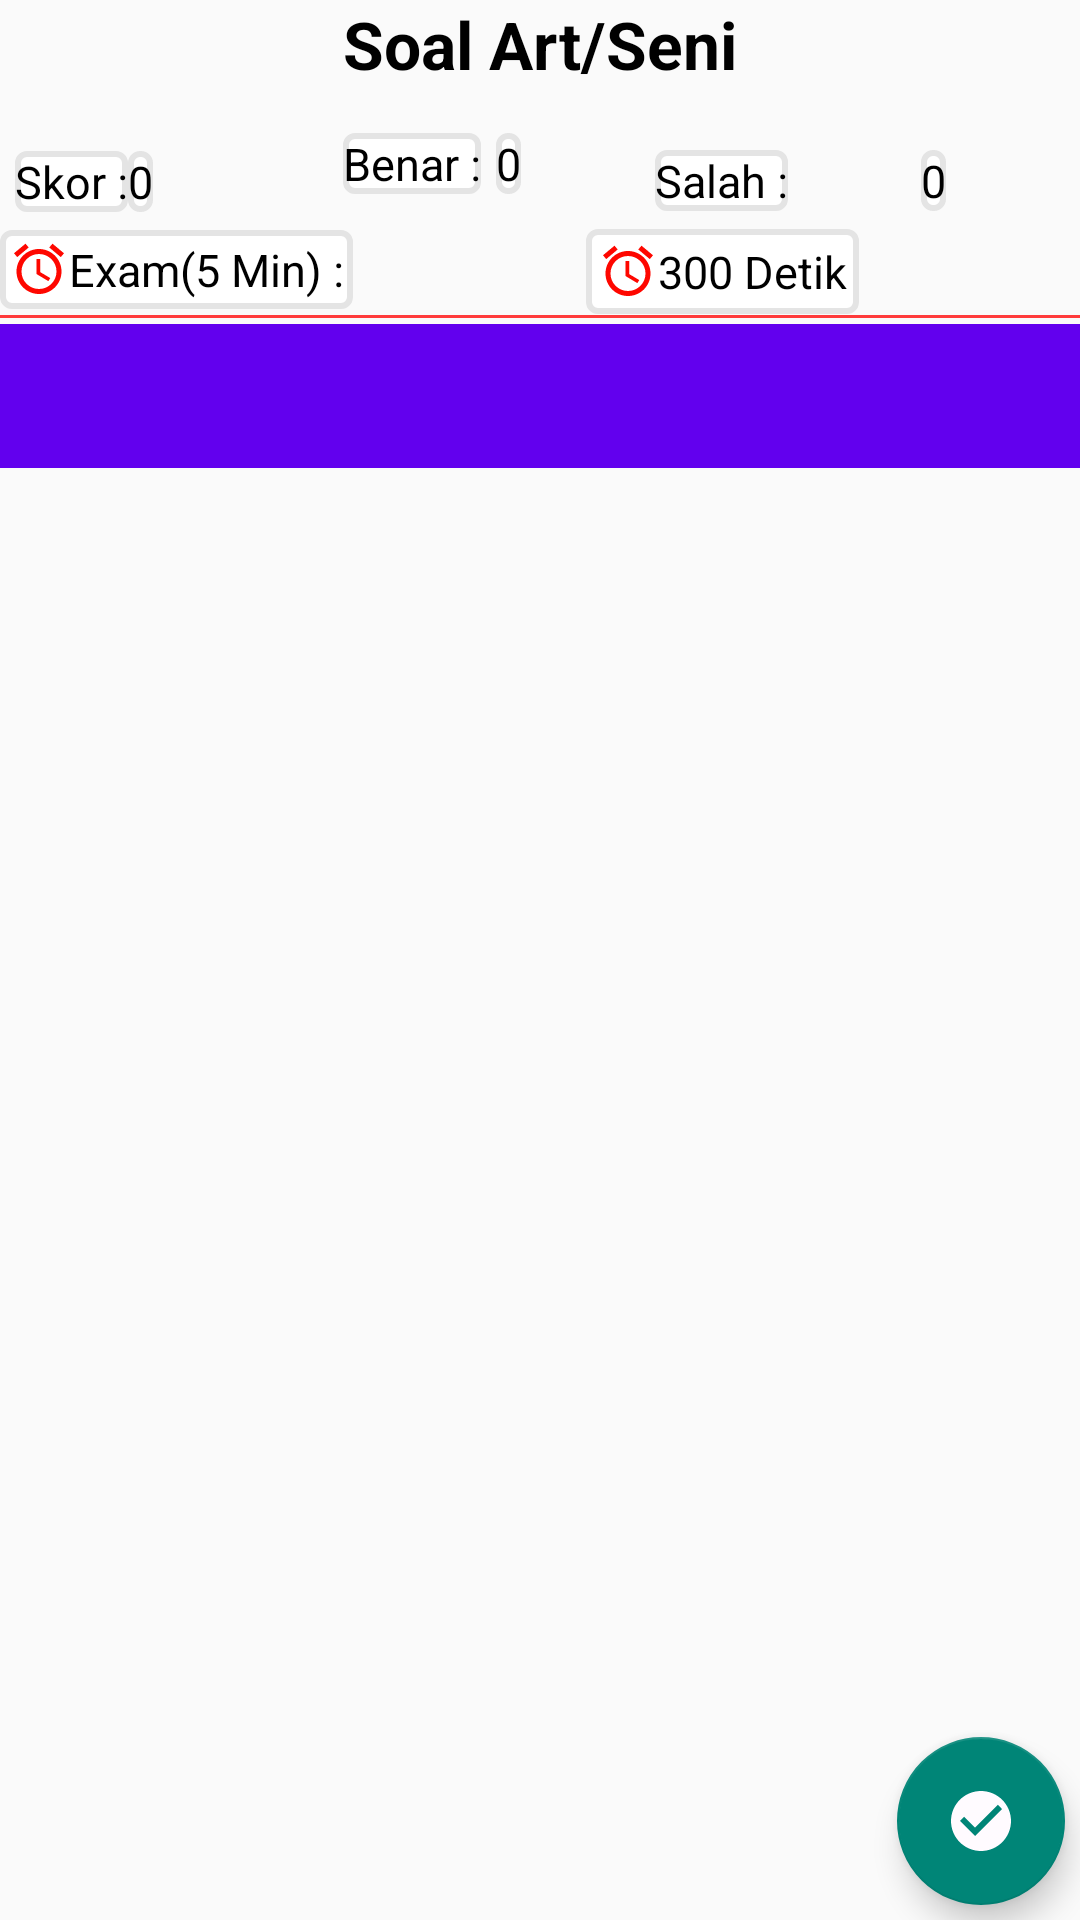

Where to tap for icons on this 1080w x 1920h app screen, as (x,y):
check circle: (981,1821)
